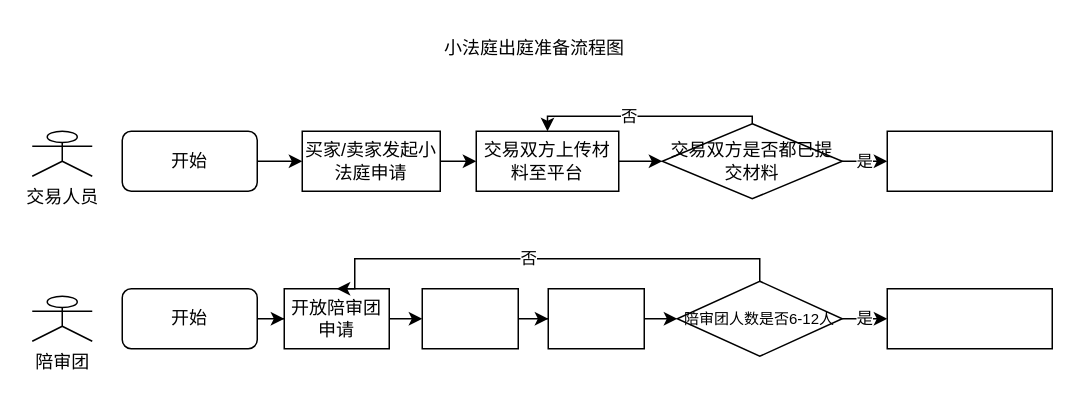
Some shapes in this 1079 by 398 pixel diagram are drawn without their labels. Here are the shapes that lost their labels. From the top down, the box of each, then its label:
(886, 130, 1052, 191): 等待出庭通知
(421, 287, 518, 349): 提交资质资料
(547, 287, 644, 349): 通过平台审核
(886, 287, 1052, 349): 获取交易双方材料，等待出庭通知
